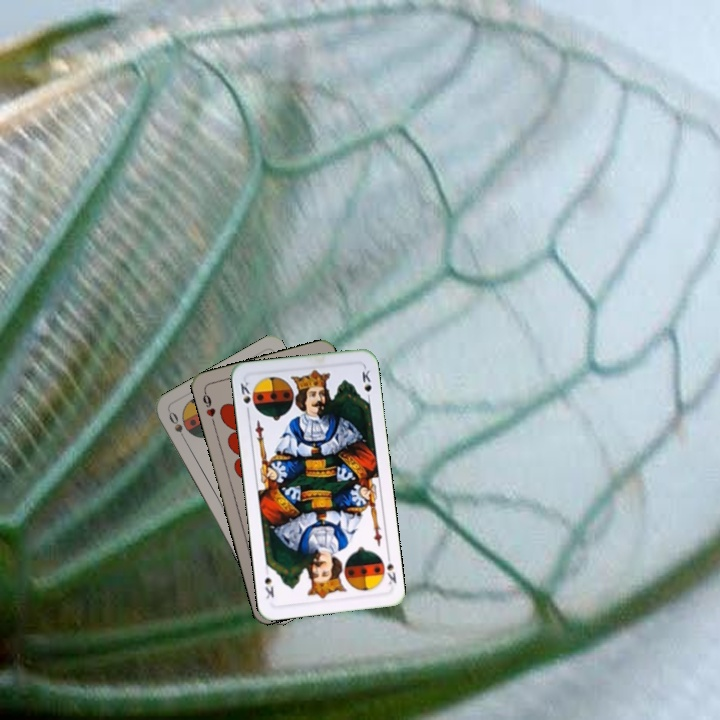H9: (199, 387, 218, 427)
SK: (236, 378, 253, 417), (383, 550, 399, 587)
SO: (165, 407, 189, 445)
